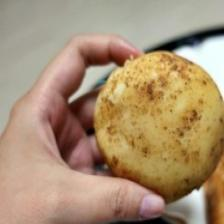Potato: (90, 46, 224, 204)
